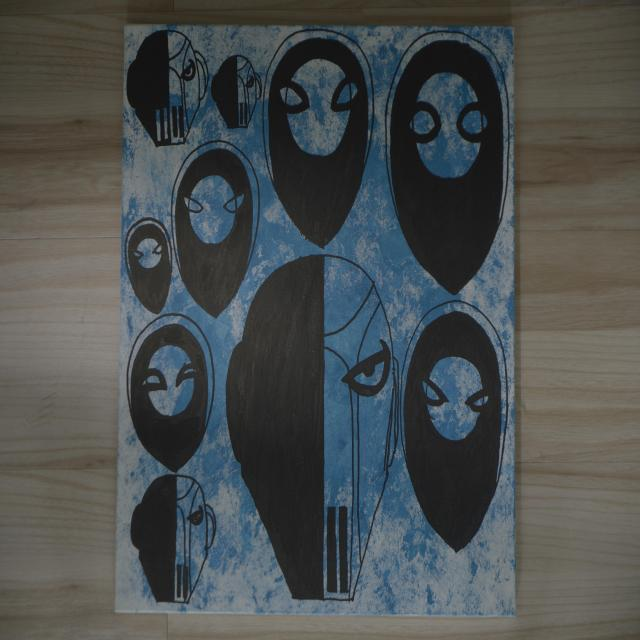painting: (116, 26, 514, 615)
